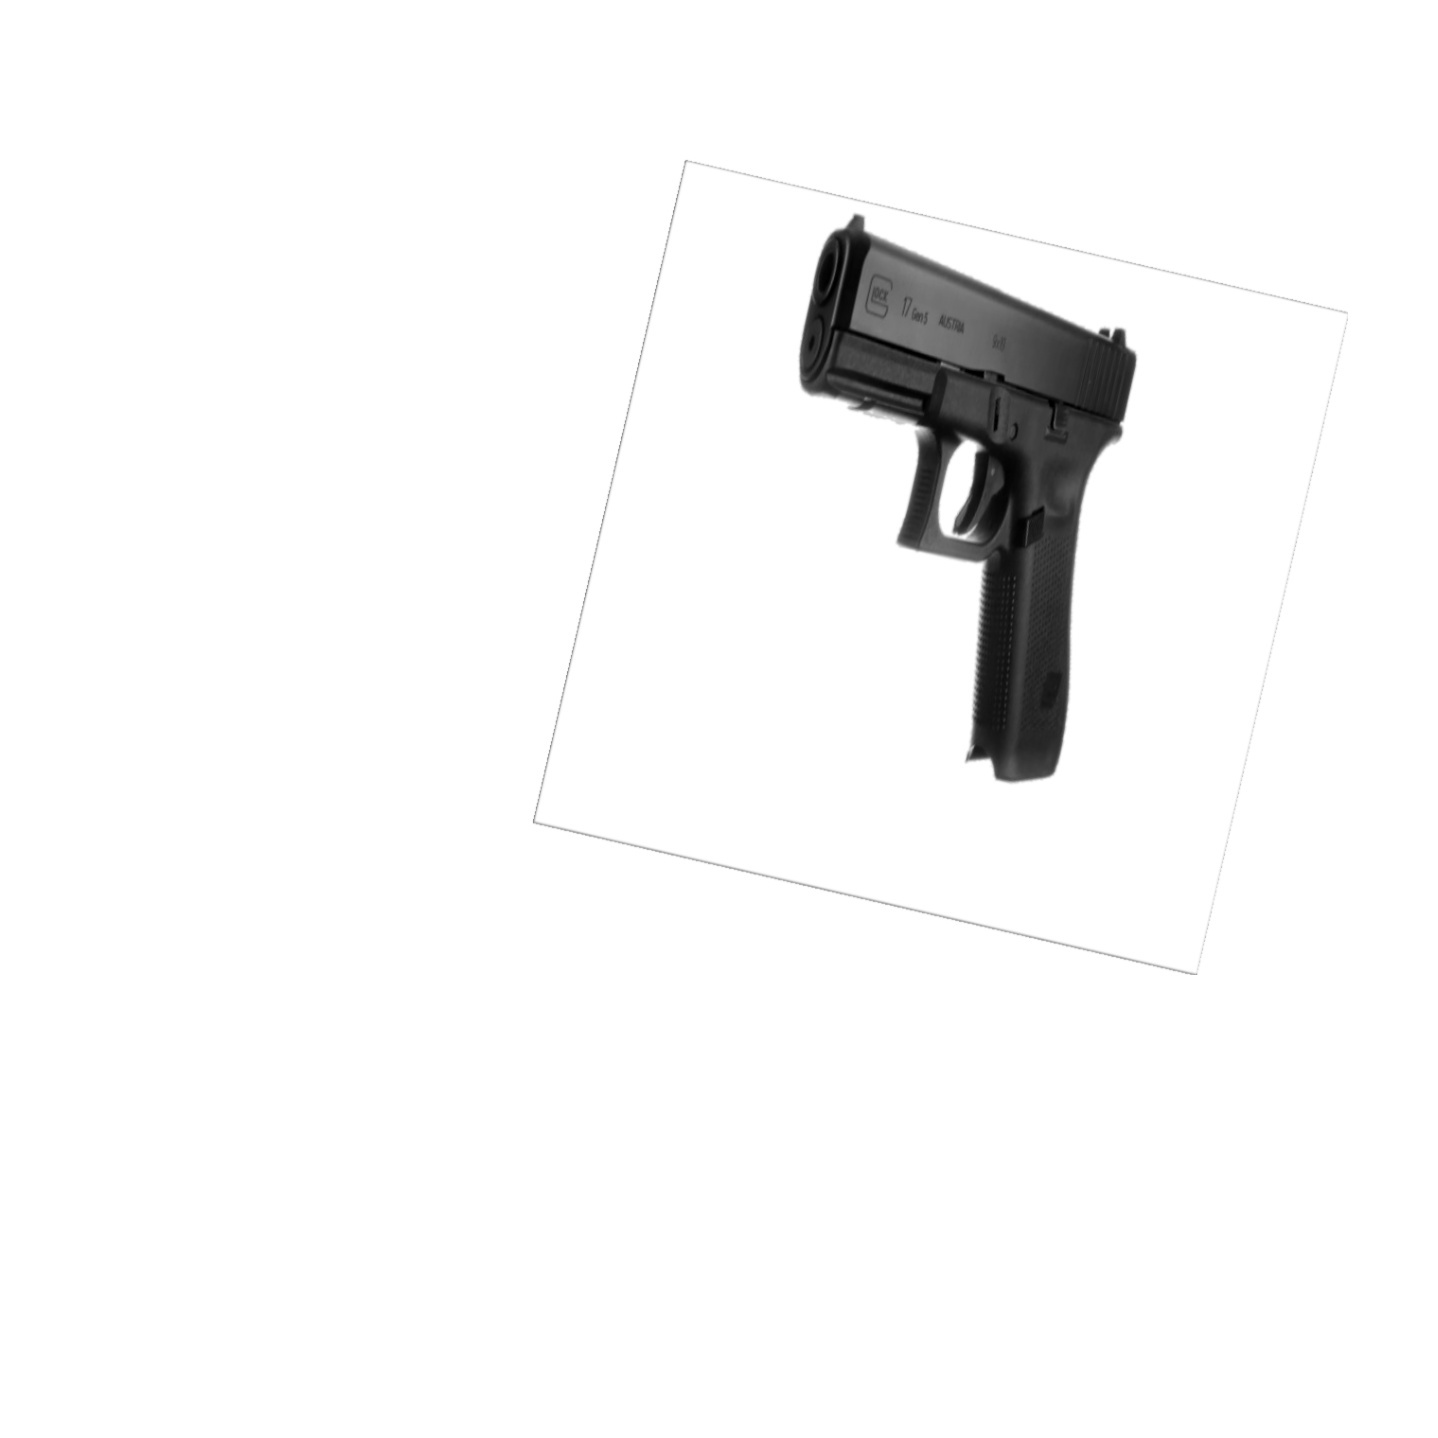gun: (791, 208, 1144, 787)
